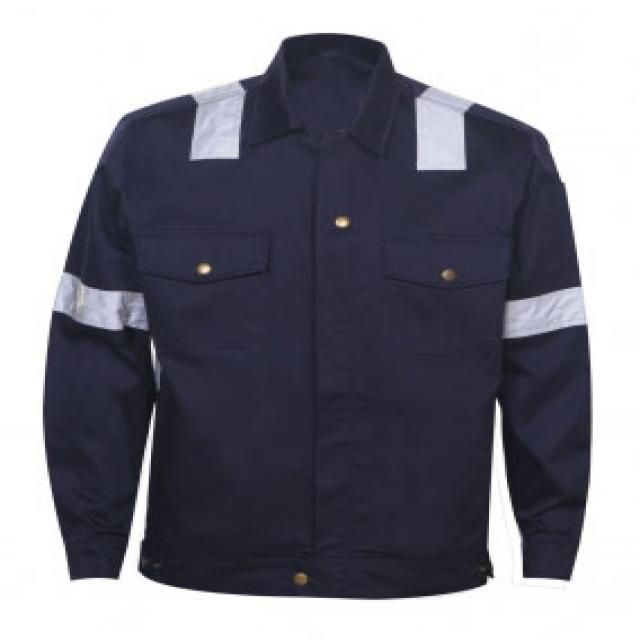Reflective-Jacket: (34, 26, 613, 636)
